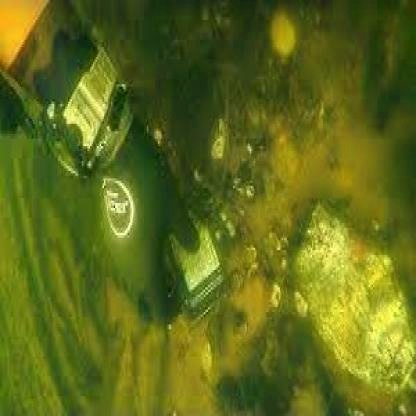misc: (44, 44, 119, 180)
